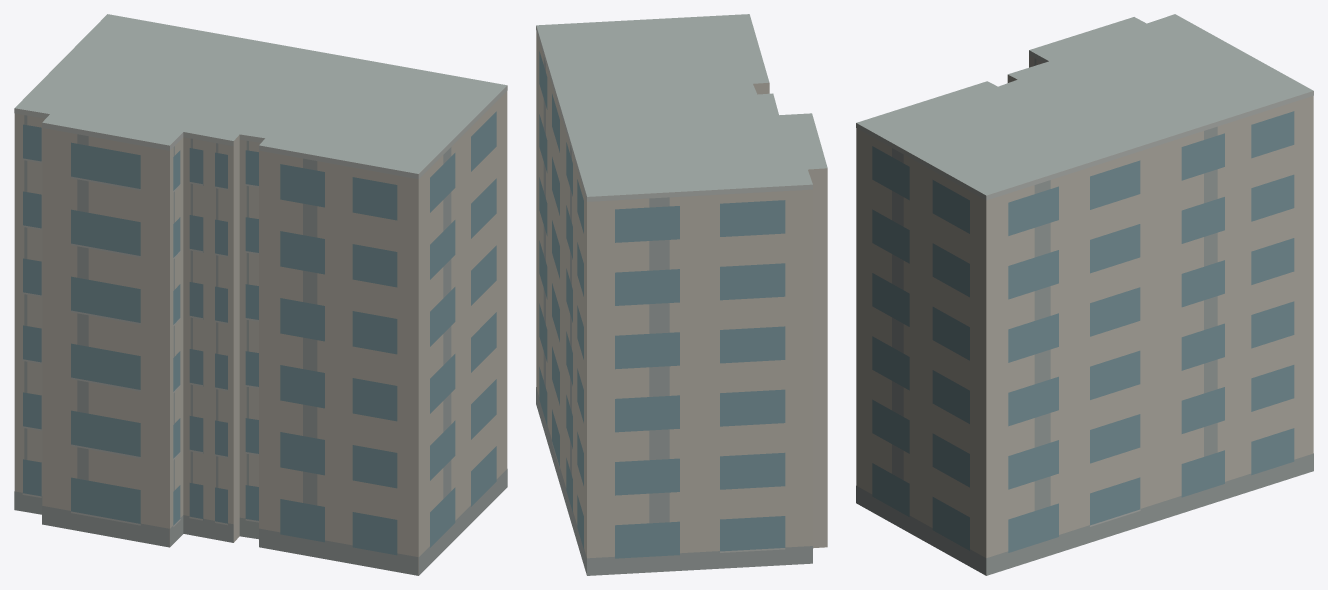
The model's file is survey-upis-32742254.glb.
3 renders of one model, left to right at view 1: azimuth 30°, elevation 25°; view 2: azimuth 150°, elevation 25°; view 3: azimuth 270°, elevation 25°, orthographic. The views are drawn at different scales.
Visible parts, largest first — view 1: survey-upis-32742254.tmp; view 2: survey-upis-32742254.tmp; view 3: survey-upis-32742254.tmp.
Boxes of the visible parts, x1,y1,x2,y2 form: survey-upis-32742254.tmp: (14, 14, 507, 575); survey-upis-32742254.tmp: (536, 14, 827, 575); survey-upis-32742254.tmp: (856, 14, 1313, 575).
Bounding box in the file's own units: 19.16 × 18.7 × 20.4.
